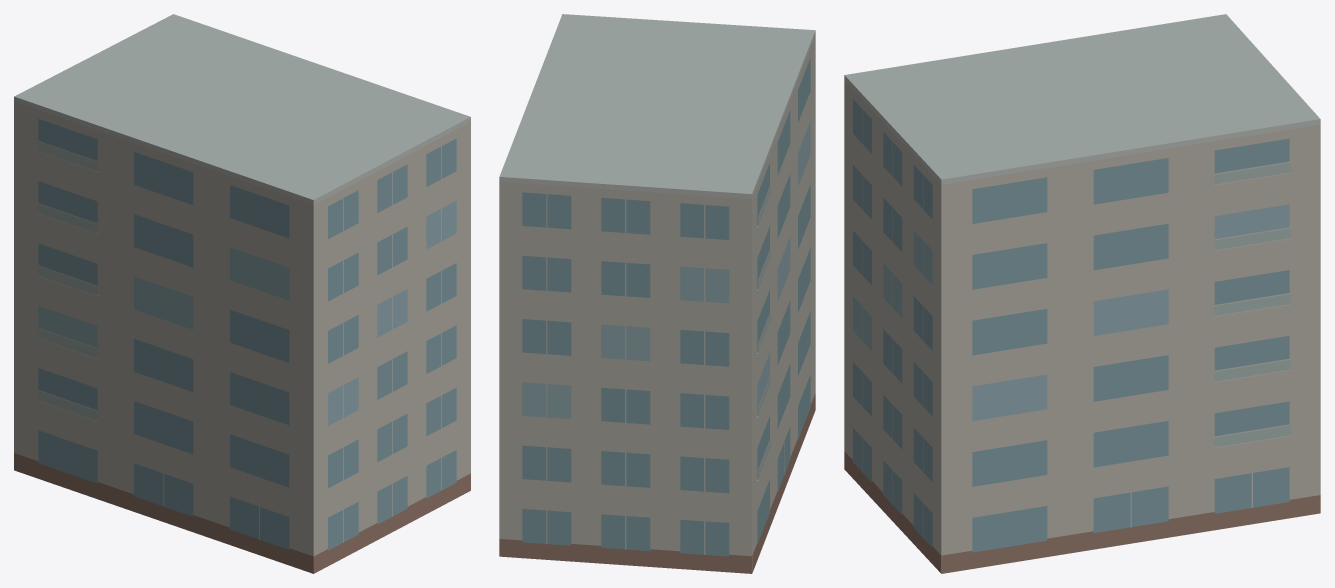
Rendered from survey-upis-32857785.glb.
The picture shows the model from 3 angles, left to right: view 1: azimuth 30°, elevation 25°; view 2: azimuth 150°, elevation 25°; view 3: azimuth 270°, elevation 25°; orthographic projection. The views are drawn at different scales.
Visible parts, largest first — view 1: survey-upis-32857785.tmp; view 2: survey-upis-32857785.tmp; view 3: survey-upis-32857785.tmp.
Boxes of the visible parts, bbox=[...] form: survey-upis-32857785.tmp: bbox=[14, 14, 470, 573]; survey-upis-32857785.tmp: bbox=[499, 14, 815, 573]; survey-upis-32857785.tmp: bbox=[844, 14, 1320, 573].
Size of the model in its own units: 16.5 by 18.3 by 20.04.
